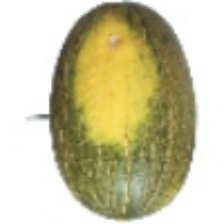honeydew: (36, 35, 201, 198)
